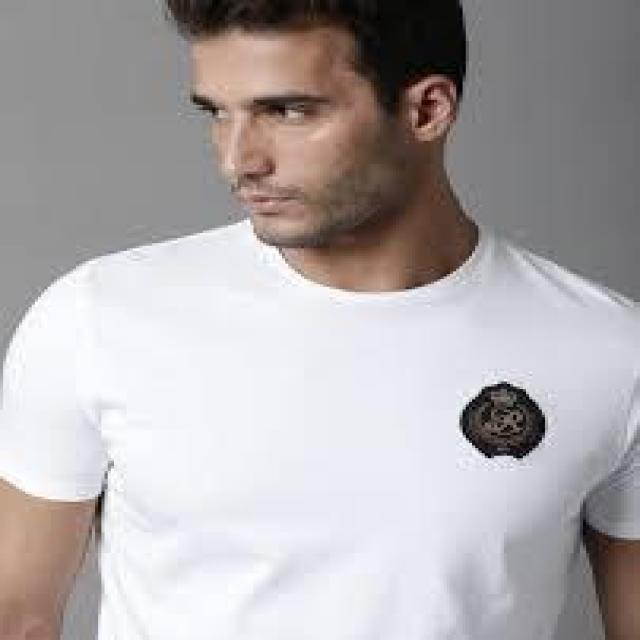Tshirt: (3, 212, 640, 640)
